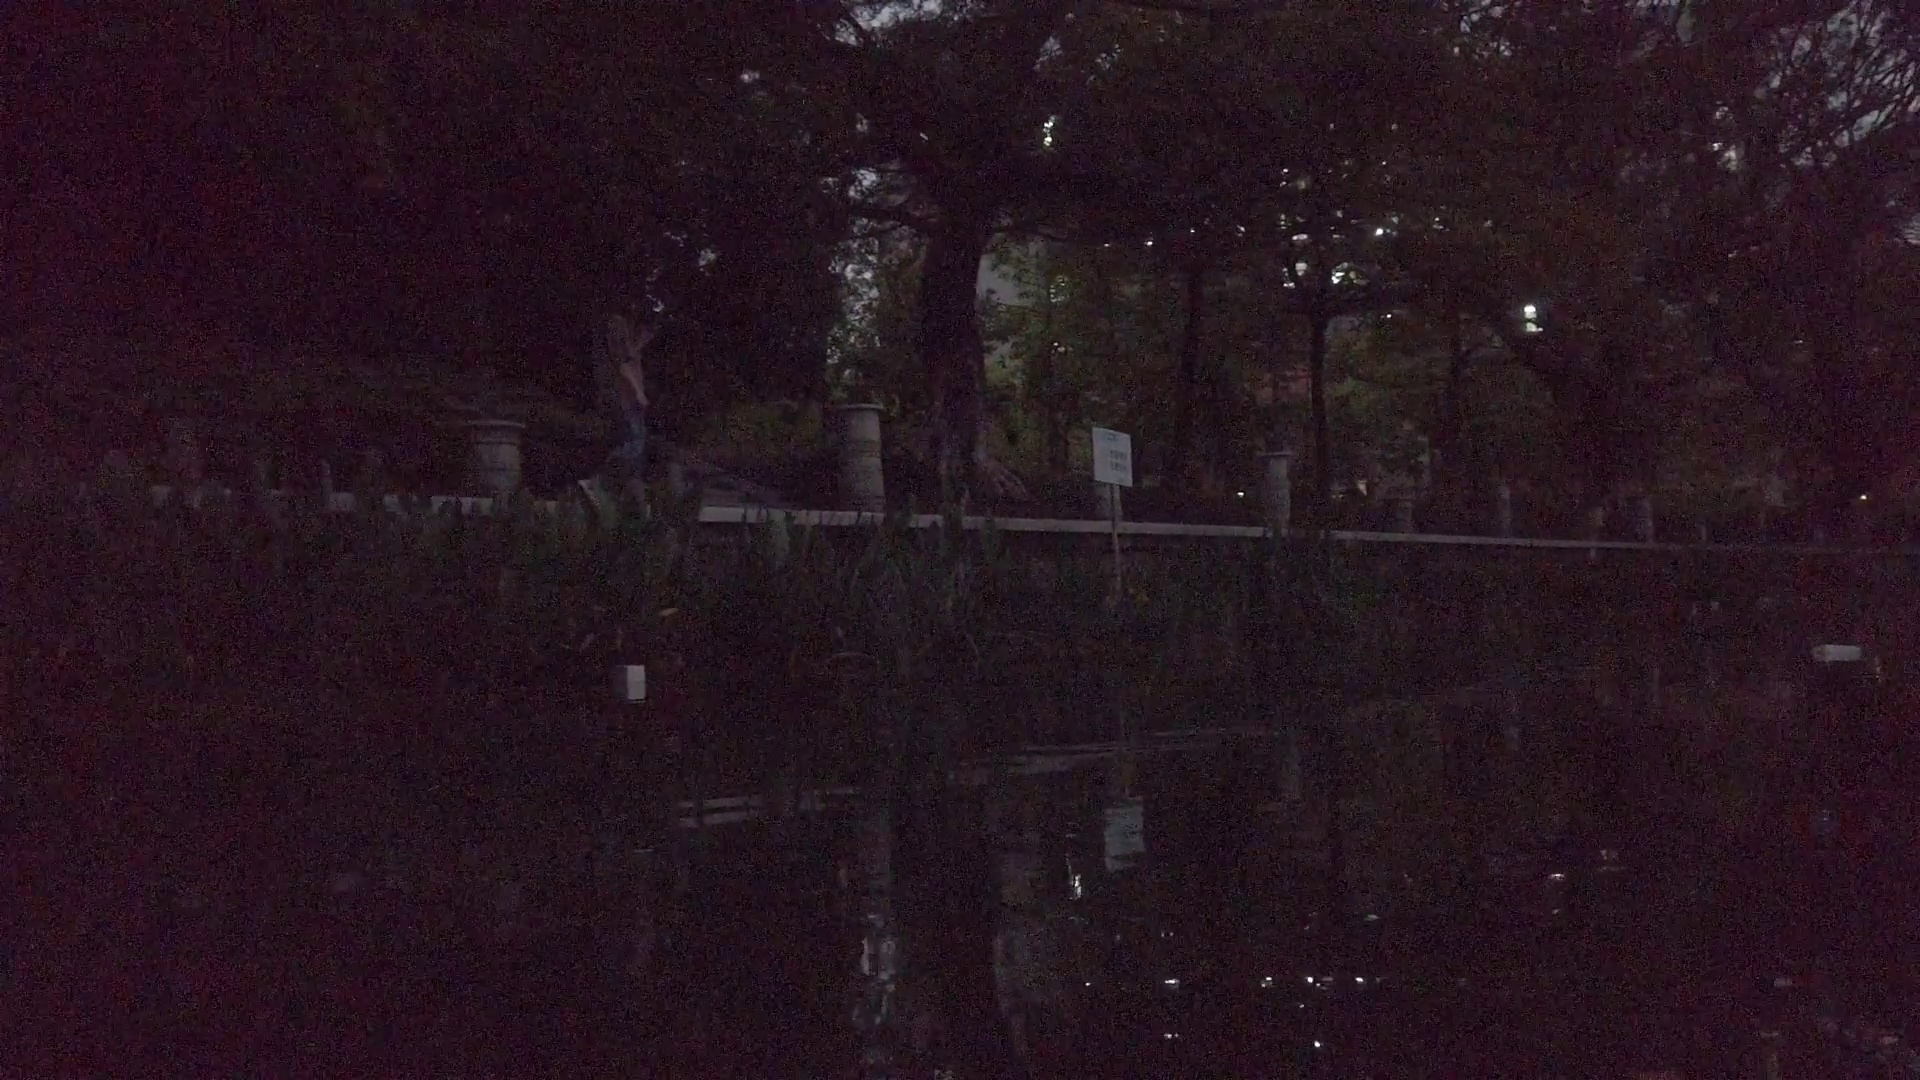carton: (1813, 645, 1863, 663), (611, 663, 645, 684)
